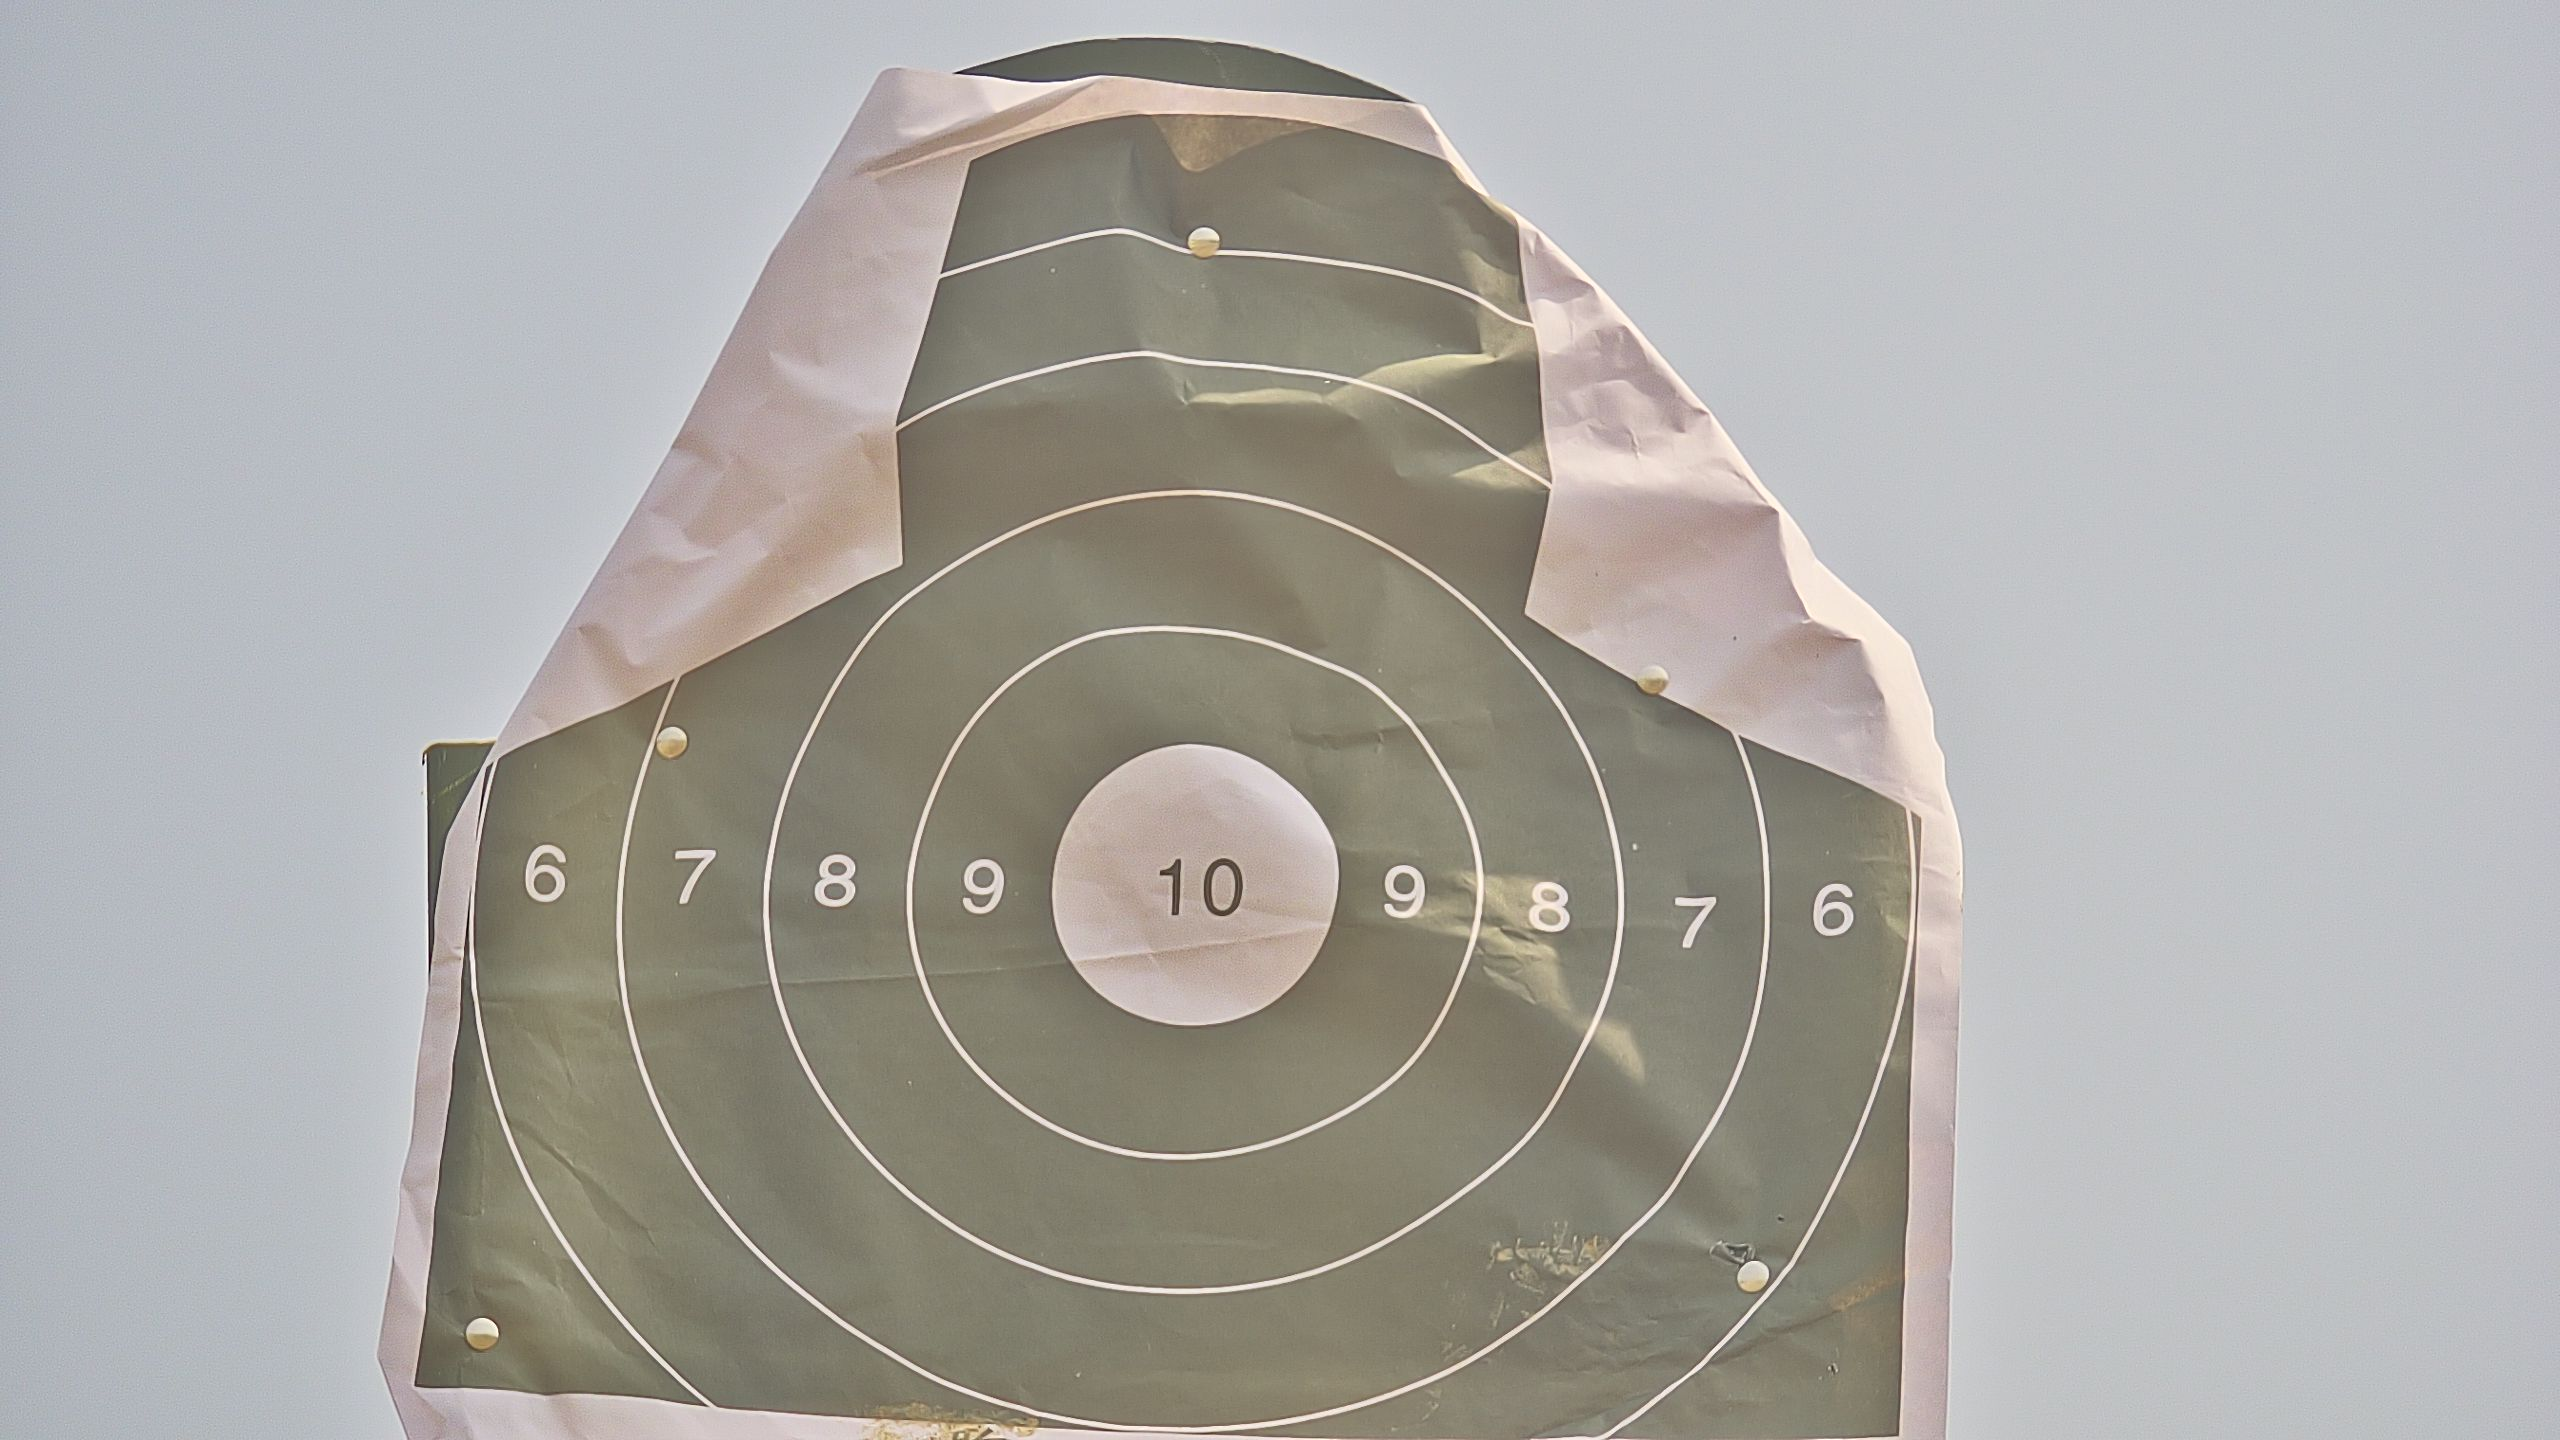kernel: (1190, 883, 1196, 893)
target: (410, 114, 1927, 1440)
ten: (1050, 745, 1343, 1029)
